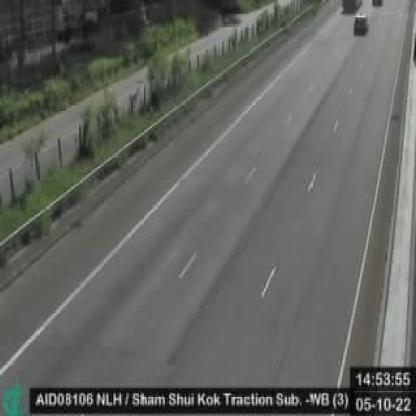Car: (352, 14, 367, 36)
